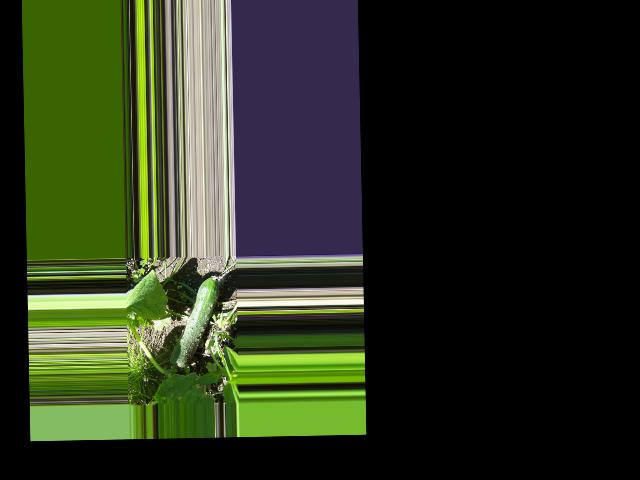cucumber: (168, 276, 221, 369)
